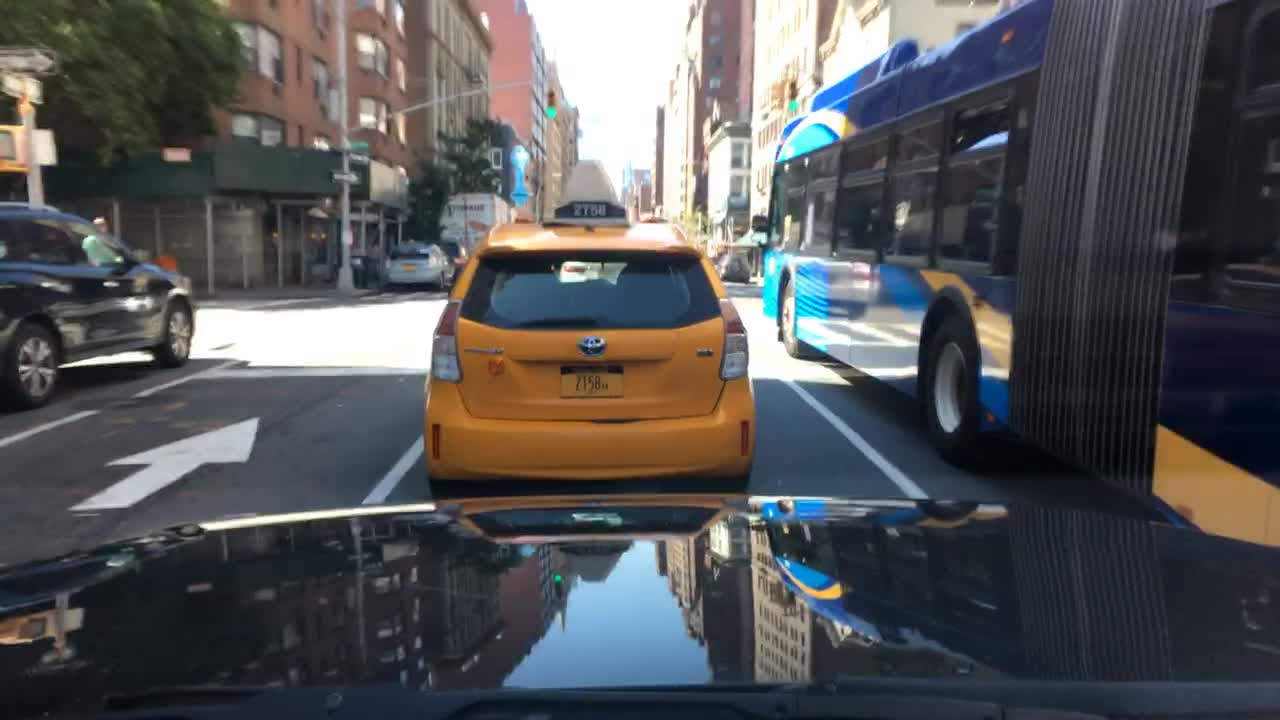bus: (766, 3, 1278, 544), (439, 190, 504, 249)
car: (423, 157, 755, 492), (0, 200, 194, 408), (388, 240, 444, 289), (416, 235, 465, 279), (717, 254, 748, 281)
person: (81, 214, 119, 267)
traffic light: (1, 123, 28, 174), (785, 76, 801, 107), (772, 74, 785, 112), (544, 93, 556, 121)
traffic sign: (0, 40, 58, 73), (2, 76, 49, 99), (35, 129, 59, 171), (329, 169, 362, 185), (343, 135, 371, 151), (346, 152, 374, 164), (491, 147, 502, 172)
